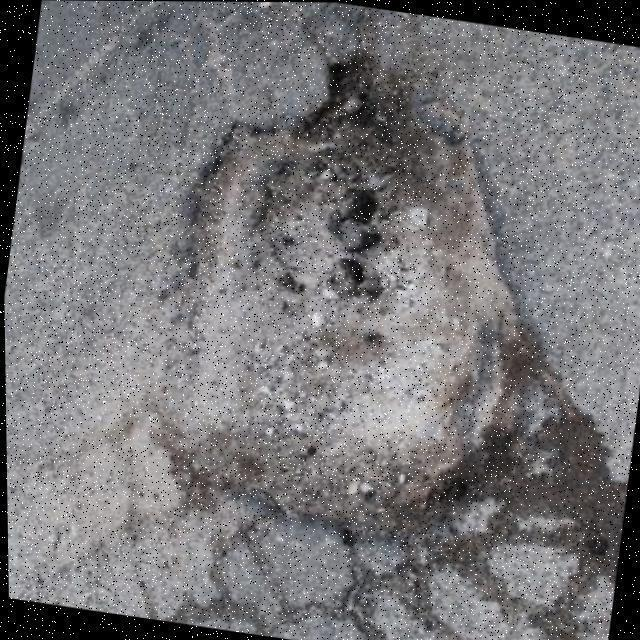Pothole: (151, 48, 558, 548)
